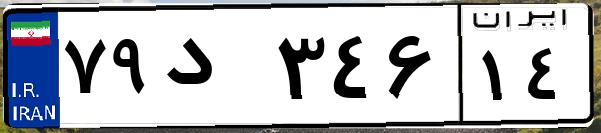1: (475, 38, 525, 113)
3: (270, 28, 330, 110)
4: (330, 28, 385, 110), (525, 38, 570, 115)
6: (385, 28, 445, 110)
7: (57, 26, 110, 100)
9: (110, 28, 158, 98)
د: (158, 20, 270, 120)
